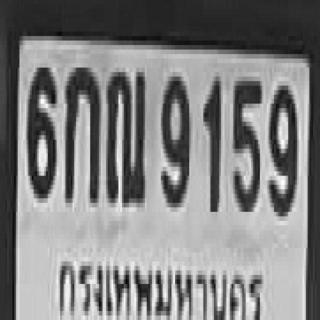A01: (64, 63, 97, 198)
A19: (104, 63, 145, 203)
N01: (202, 72, 219, 207)
N05: (232, 77, 260, 207)
N06: (27, 63, 55, 194)
N09: (267, 81, 295, 212), (159, 72, 187, 203)
P04: (55, 248, 271, 320)
